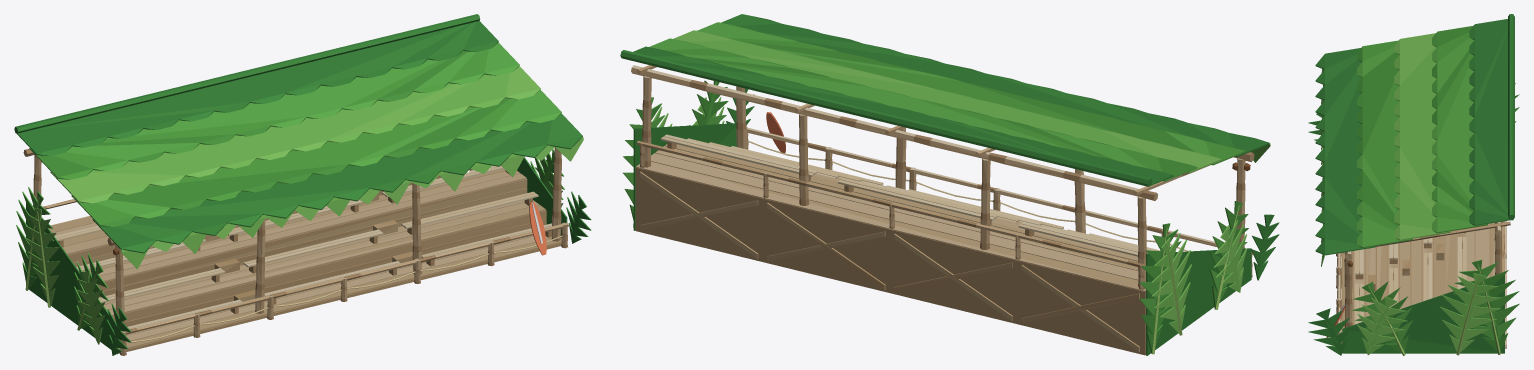
The model's file is stand-beach.glb.
3 views of the same model, side by side, from view 1: azimuth 30°, elevation 25°; view 2: azimuth 150°, elevation 25°; view 3: azimuth 270°, elevation 25° (orthographic). The views are drawn at different scales.
Visible parts, largest first — view 1: stand-beach; view 2: stand-beach; view 3: stand-beach.
Part boxes in pixels (x1,y1,x2,y2): stand-beach: [14, 14, 591, 355]; stand-beach: [620, 14, 1279, 355]; stand-beach: [1308, 14, 1519, 355].
Size of the model in its own units: 22.2 by 7.32 by 9.88.
